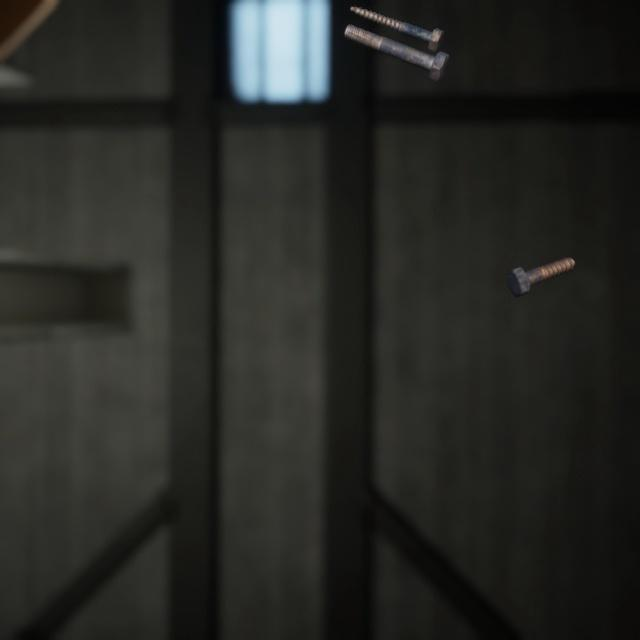bolt: (339, 11, 454, 76), (346, 0, 448, 48), (502, 236, 579, 284)
